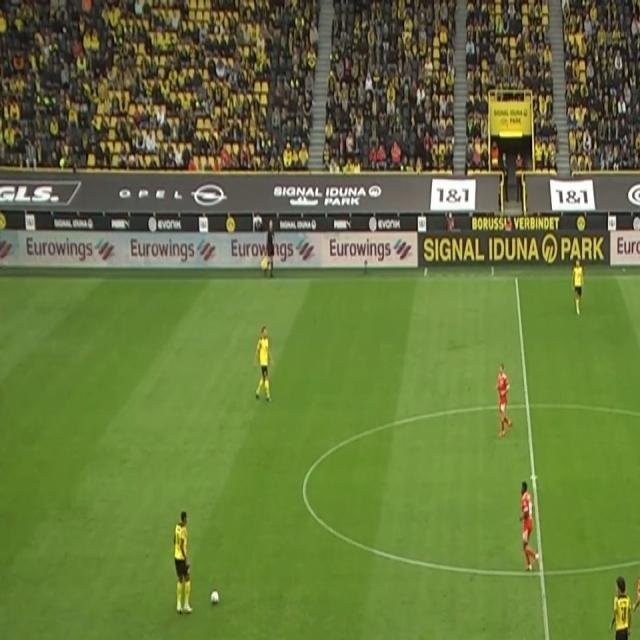ball: (209, 588, 220, 607)
